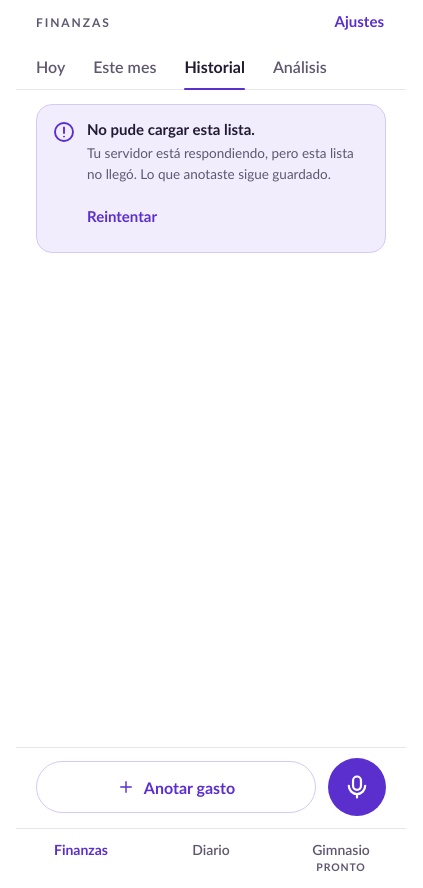
Scenario: QA D3 — the list request fails while the server is reachable › loads the list when the retry succeeds
Expected: the text "No pude cargar esta lista." is shown, [87,120,255,138]
Click the button "Reintentar". click: {"x": 122, "y": 216}
box: [87,194,157,238]
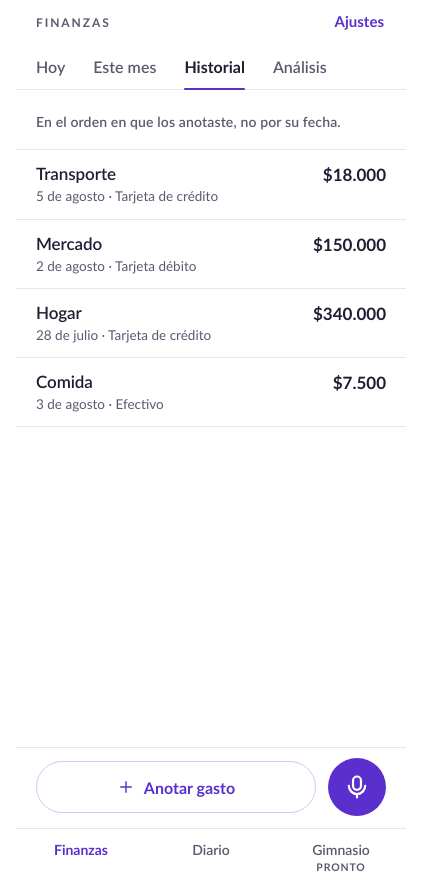
Result: the text "Transporte" is shown at [36,163,116,184]
Result: the text "No pude cargar esta lista." is gone
Result: the text "En el orden en que los anotaste, no por su fecha." is shown at [36,112,356,132]
